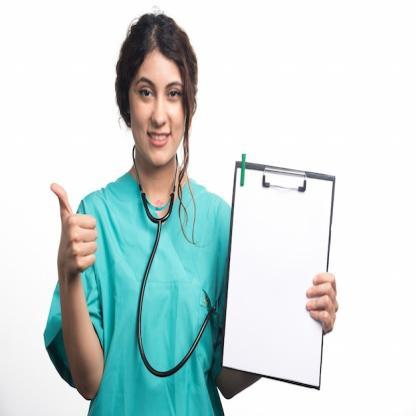thumb_up: (40, 179, 104, 282)
